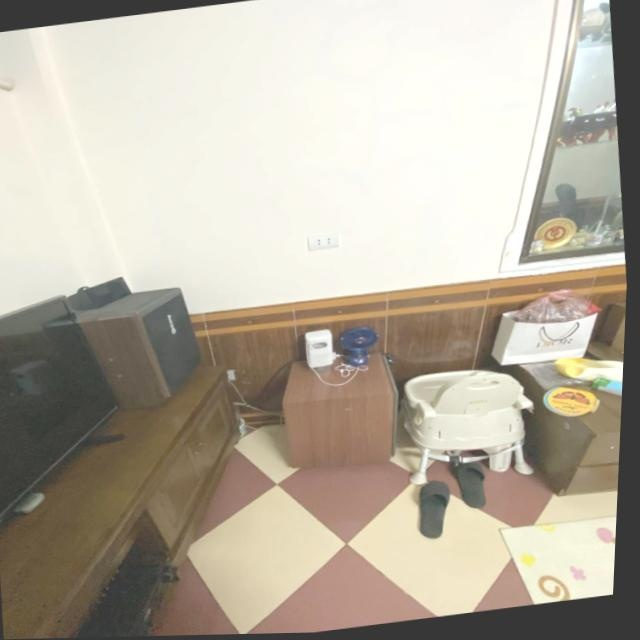outlet: (306, 231, 340, 250)
